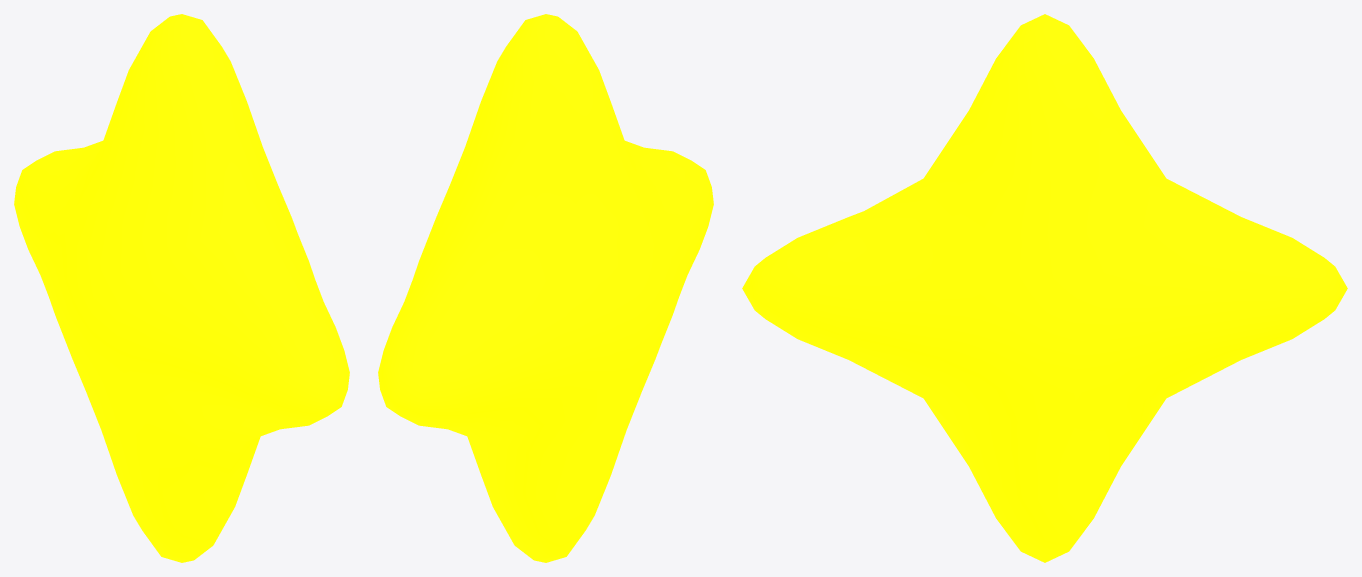
File: calm_star_320.glb
3 renders of one model, left to right at view 1: azimuth 30°, elevation 25°; view 2: azimuth 150°, elevation 25°; view 3: azimuth 270°, elevation 25°, orthographic.
Visible parts, largest first — view 1: calm_star_320; view 2: calm_star_320; view 3: calm_star_320.
Boxes of the visible parts, left/top/right/bottom form: calm_star_320: left=14, top=14, right=349, bottom=562; calm_star_320: left=378, top=14, right=713, bottom=562; calm_star_320: left=742, top=14, right=1347, bottom=562.
Size of the model in its own units: 2.06 by 4.89 by 4.89.
